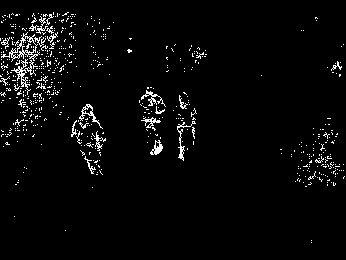person: (71, 103, 107, 178), (136, 85, 168, 159), (175, 88, 205, 162)
